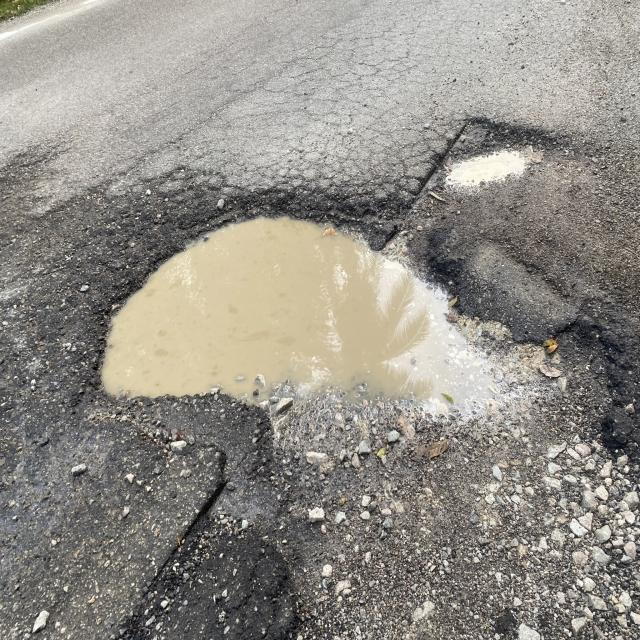Pothole: (88, 170, 461, 441)
